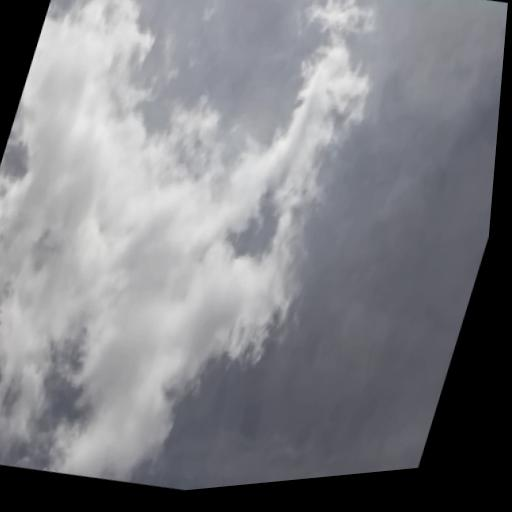drones: (0, 300, 9, 338)
